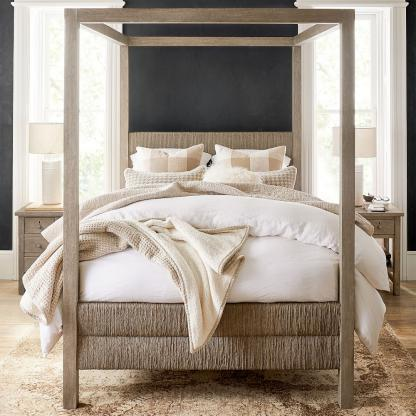bed: (70, 126, 341, 409)
door: (306, 26, 345, 200)
light: (17, 119, 73, 209), (334, 127, 377, 208)
table: (15, 202, 65, 358), (354, 205, 403, 294)
